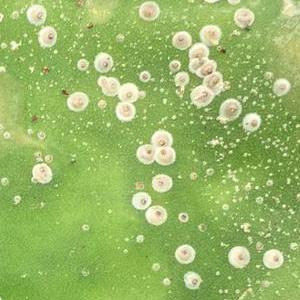Femea: (148, 207, 168, 225), (261, 252, 283, 268), (118, 103, 135, 120), (121, 84, 139, 100), (155, 148, 174, 163), (151, 131, 170, 146), (41, 27, 55, 46), (229, 247, 247, 261), (139, 147, 154, 162), (172, 32, 187, 47), (184, 274, 201, 287), (154, 176, 169, 190), (176, 248, 192, 261), (245, 116, 259, 130), (275, 80, 288, 95), (133, 195, 148, 207), (96, 57, 111, 69), (76, 59, 87, 69), (178, 212, 187, 223), (169, 61, 179, 70), (139, 72, 149, 81)
Linfa: (225, 165, 238, 184), (203, 137, 225, 147), (198, 114, 214, 127), (265, 155, 282, 167), (260, 229, 275, 241), (237, 222, 250, 233), (268, 137, 279, 150), (269, 193, 282, 204), (157, 114, 170, 125), (263, 165, 273, 177), (289, 165, 298, 178), (280, 143, 287, 159), (159, 96, 168, 107), (240, 73, 251, 82), (289, 204, 296, 217), (240, 150, 251, 158), (256, 214, 264, 224), (263, 113, 272, 121), (227, 196, 236, 204), (237, 193, 245, 202), (279, 202, 286, 210), (252, 62, 259, 70), (286, 176, 291, 187), (252, 184, 259, 190), (235, 135, 241, 142)
